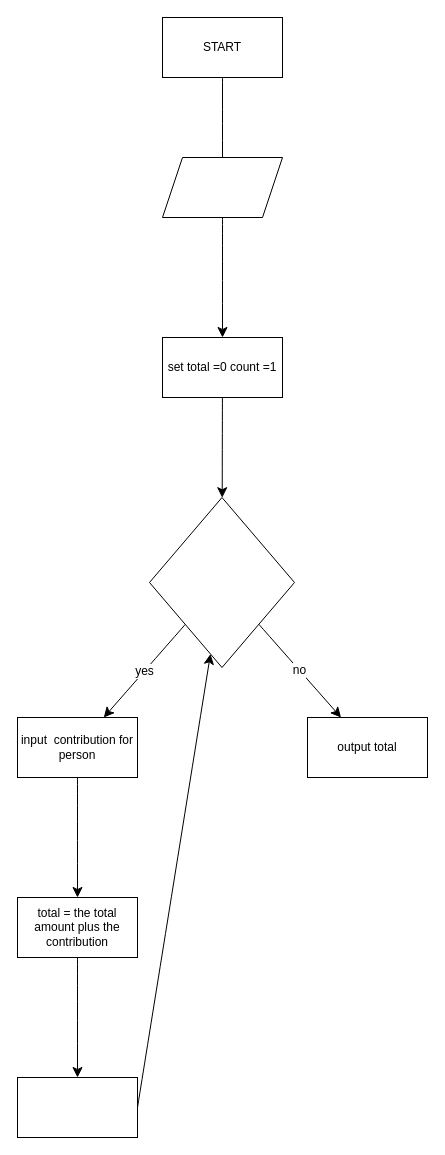
Some shapes in this 445 by 1155 pixel diagram are drawn without their labels. The centre of each missing label's shape, as x and y in pixels:
count the total amount + 1: (77,1107)
input number of people: (222,187)
is count <= n: (221,582)
